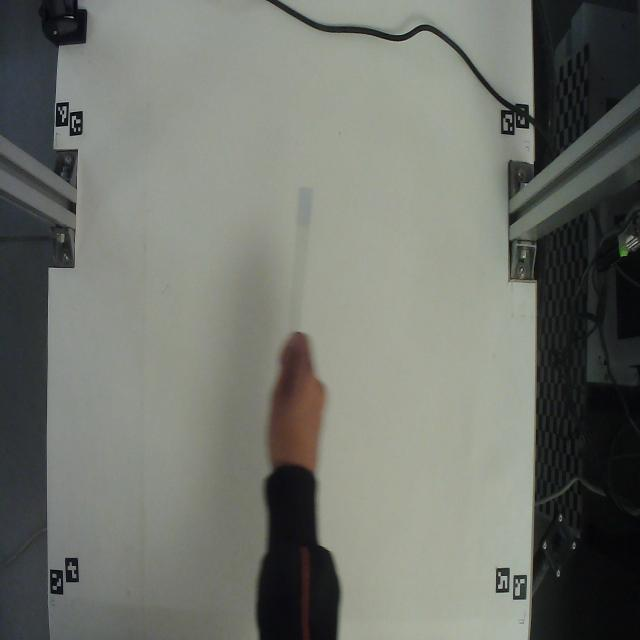NoPres: (281, 175, 318, 336)
